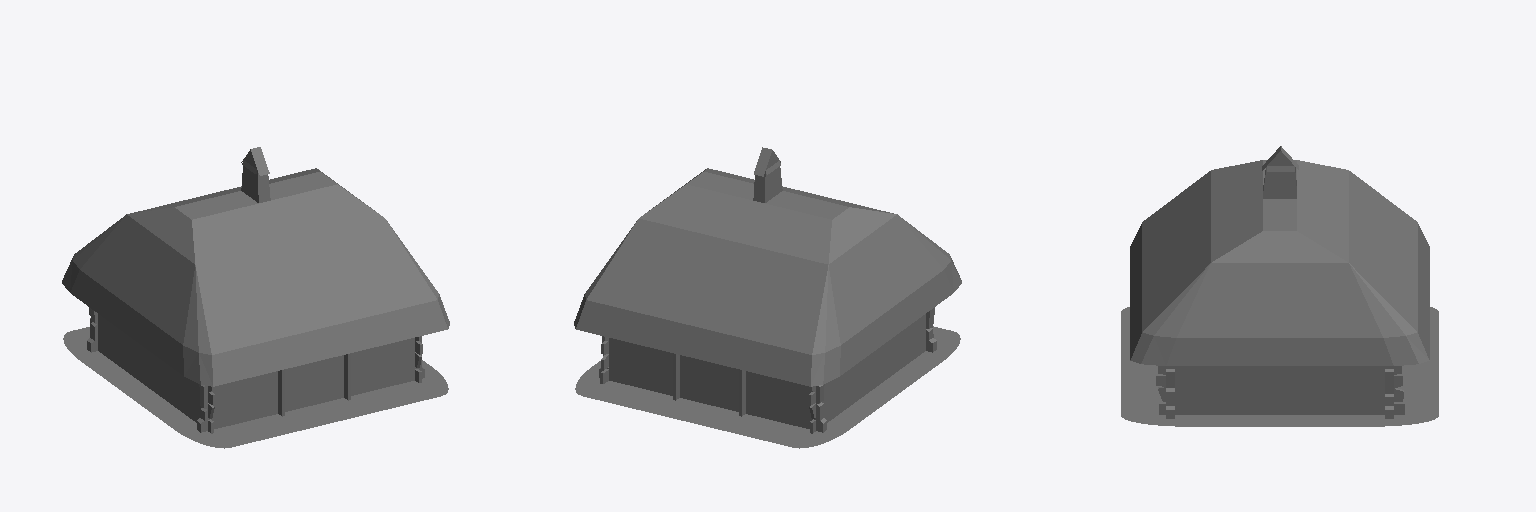
Rendered from house.obj.
The picture shows the model from 3 angles: view 1: azimuth 30°, elevation 25°; view 2: azimuth 150°, elevation 25°; view 3: azimuth 270°, elevation 25°; orthographic projection.
Visible parts, largest first — view 1: Mesh_Mesh_Ukrainian_house; view 2: Mesh_Mesh_Ukrainian_house; view 3: Mesh_Mesh_Ukrainian_house.
Boxes of the visible parts, x1,y1,x2,y2 form: Mesh_Mesh_Ukrainian_house: [62, 147, 449, 448]; Mesh_Mesh_Ukrainian_house: [574, 147, 961, 448]; Mesh_Mesh_Ukrainian_house: [1121, 146, 1438, 426].
Size of the model in its own units: 11.72 by 9.36 by 12.55.